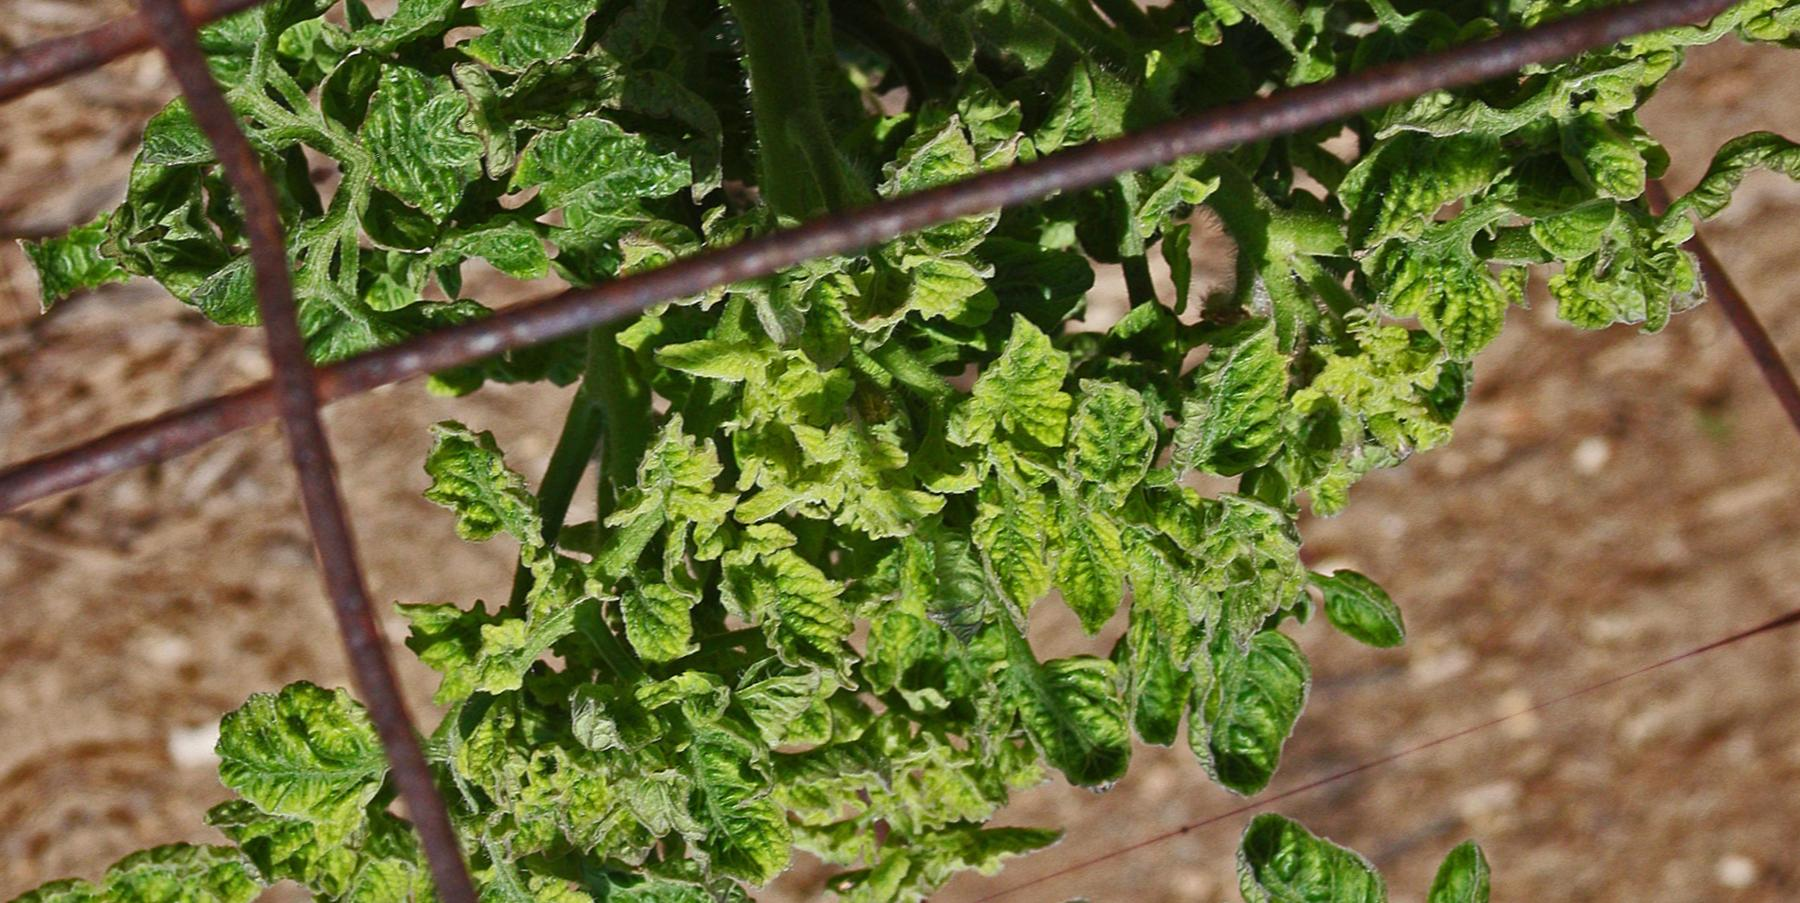Tomato leaf yellow virus: (455, 55, 715, 274), (177, 620, 413, 855), (1125, 592, 1365, 822), (1308, 61, 1572, 265), (965, 618, 1177, 846), (693, 474, 873, 719), (1121, 292, 1337, 496), (639, 691, 809, 903), (1018, 349, 1193, 548), (398, 391, 561, 583), (1015, 446, 1156, 666), (921, 289, 1095, 466), (782, 374, 946, 560), (329, 120, 517, 279), (935, 436, 1082, 626), (392, 564, 562, 723), (826, 223, 1000, 360), (1392, 254, 1540, 389), (89, 802, 277, 903), (276, 800, 453, 903), (579, 552, 709, 681), (633, 302, 779, 411), (474, 820, 653, 903), (1509, 176, 1639, 280), (1119, 0, 1280, 3)
